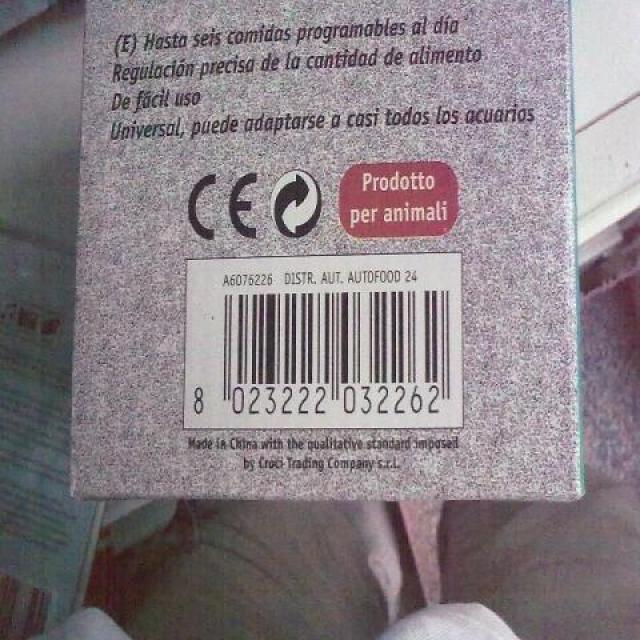Barcode: (182, 258, 462, 430)
